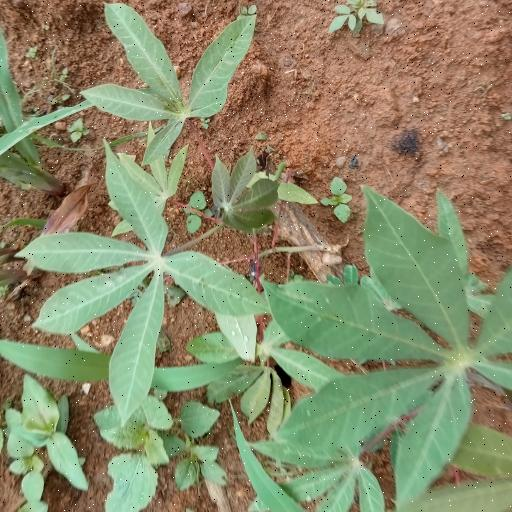Cassava_Mosaic: (45, 146, 262, 402)
